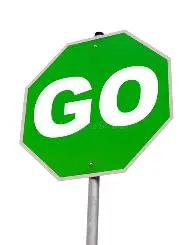Go: (20, 31, 172, 179)
